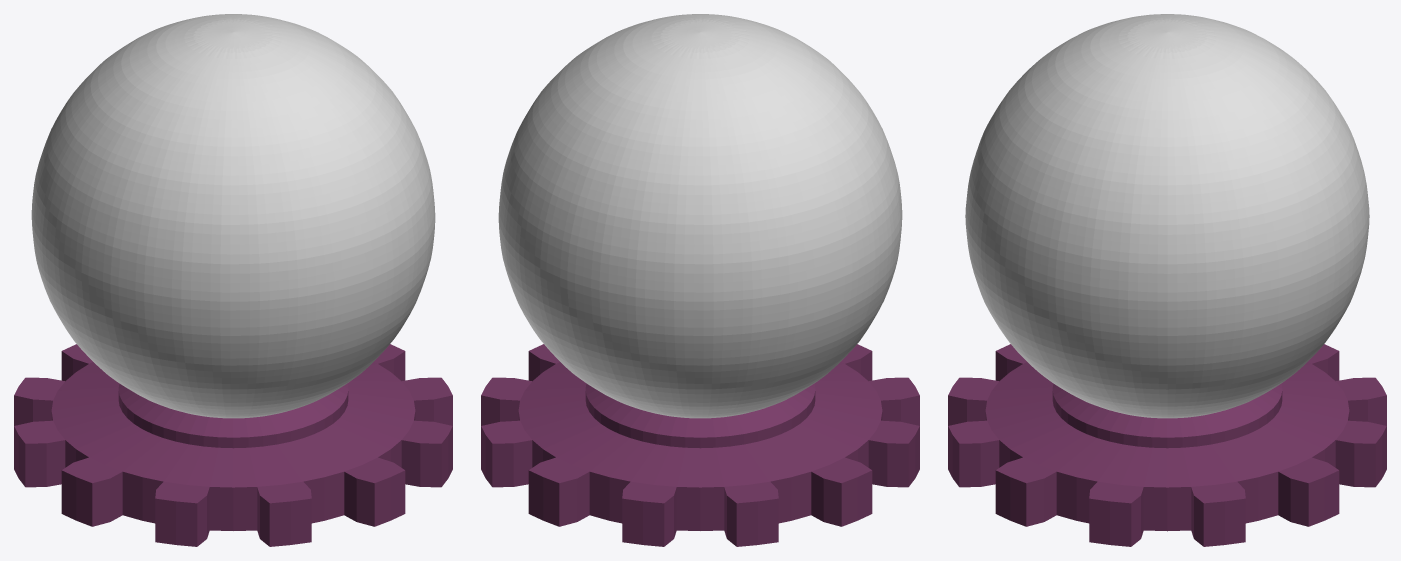
Rendered from MagicOrb2.fbx.
3 renders of one model, left to right at view 1: azimuth 30°, elevation 25°; view 2: azimuth 150°, elevation 25°; view 3: azimuth 270°, elevation 25°, orthographic.
Parts seen in each view (by area): view 1: Gear; view 2: Gear; view 3: Gear.
Part boxes in pixels (x1=…): Gear: x1=14, y1=14, x2=452, y2=546; Gear: x1=481, y1=14, x2=919, y2=546; Gear: x1=948, y1=14, x2=1386, y2=546.
Bounding box in the file's own units: 0.3024 × 0.3024 × 0.3209.
